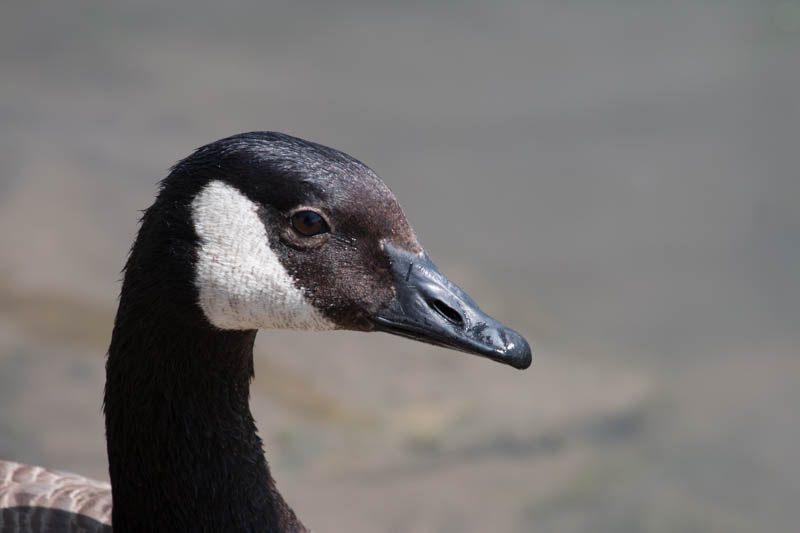goose-head: (126, 132, 532, 371)
